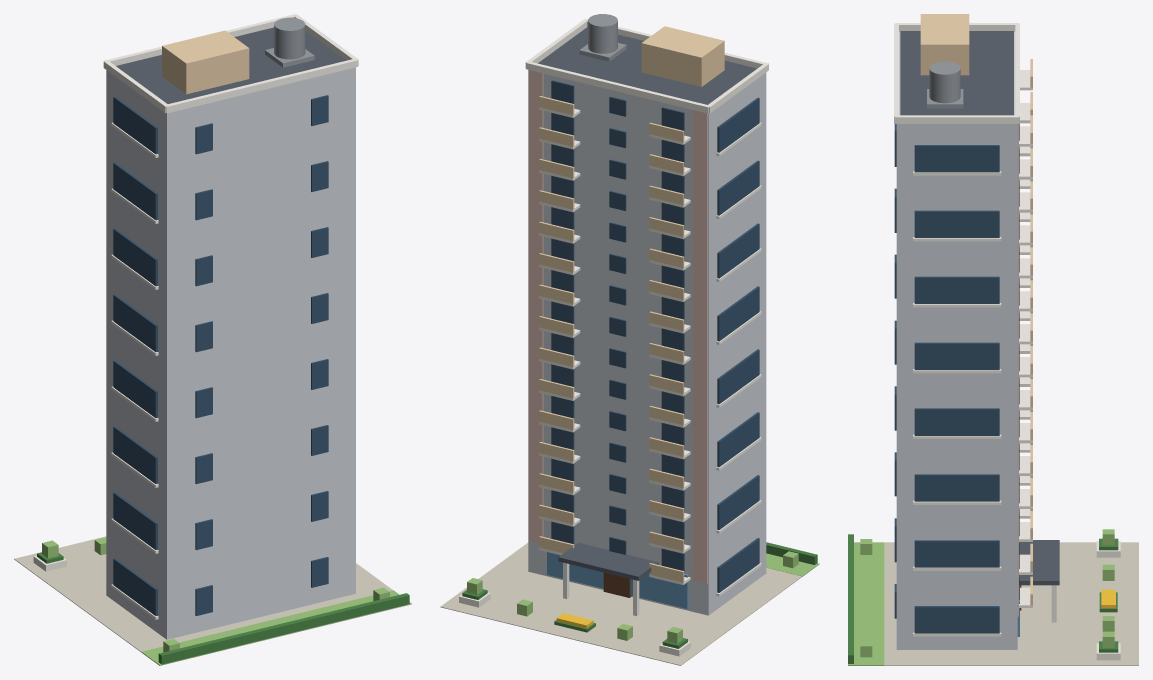
The picture shows the model from 3 angles, left to right: view 1: azimuth 30°, elevation 25°; view 2: azimuth 150°, elevation 25°; view 3: azimuth 270°, elevation 25°; orthographic projection. The views are drawn at different scales.
Parts seen in each view (by area): view 1: tower, window_band (×8), plaza, roof, plant_room, parapet (×3), hedge, lawn, water_tank; view 2: tower, plaza, panel (×2), window_band (×8), roof, plant_room, parapet (×4), storefront, canopy, water_tank, door, lawn; view 3: tower, window_band (×8), plaza, roof, lawn, plant_room, parapet (×4), canopy, water_tank, panel, hedge.
Part boxes in pixels (x1,y1,x2,y2): tower: [106, 67, 355, 639]; window_band (×8): [113, 96, 157, 615]; plaza: [14, 536, 411, 664]; roof: [116, 27, 345, 103]; plant_room: [162, 30, 249, 94]; parapet (×3): [103, 14, 358, 113]; hedge: [158, 593, 409, 664]; lawn: [142, 590, 411, 665]; water_tank: [274, 17, 305, 59]; tower: [528, 70, 766, 615]; plaza: [440, 542, 818, 665]; panel (×2): [528, 70, 707, 584]; window_band (×8): [717, 97, 759, 592]; roof: [538, 27, 756, 104]; plant_room: [641, 26, 724, 86]; parapet (×4): [525, 19, 768, 113]; storefront: [547, 552, 688, 608]; canopy: [558, 542, 658, 580]; water_tank: [588, 14, 617, 53]; door: [603, 572, 631, 597]; lawn: [766, 553, 819, 576]; tower: [896, 31, 1017, 649]; window_band (×8): [914, 145, 999, 633]; plaza: [849, 542, 1138, 665]; roof: [900, 31, 1013, 115]; lawn: [848, 542, 884, 665]; plant_room: [920, 14, 969, 75]; parapet (×4): [894, 23, 1019, 123]; canopy: [1019, 540, 1059, 585]; water_tank: [929, 61, 960, 103]; panel: [1017, 124, 1018, 616]; hedge: [848, 534, 853, 663].
Size of the model in its own units: 24 by 51.17 by 24.
